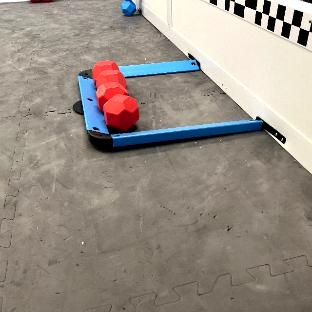V5_BLUE: (120, 0, 136, 15)
V5_RED: (92, 60, 138, 132)
